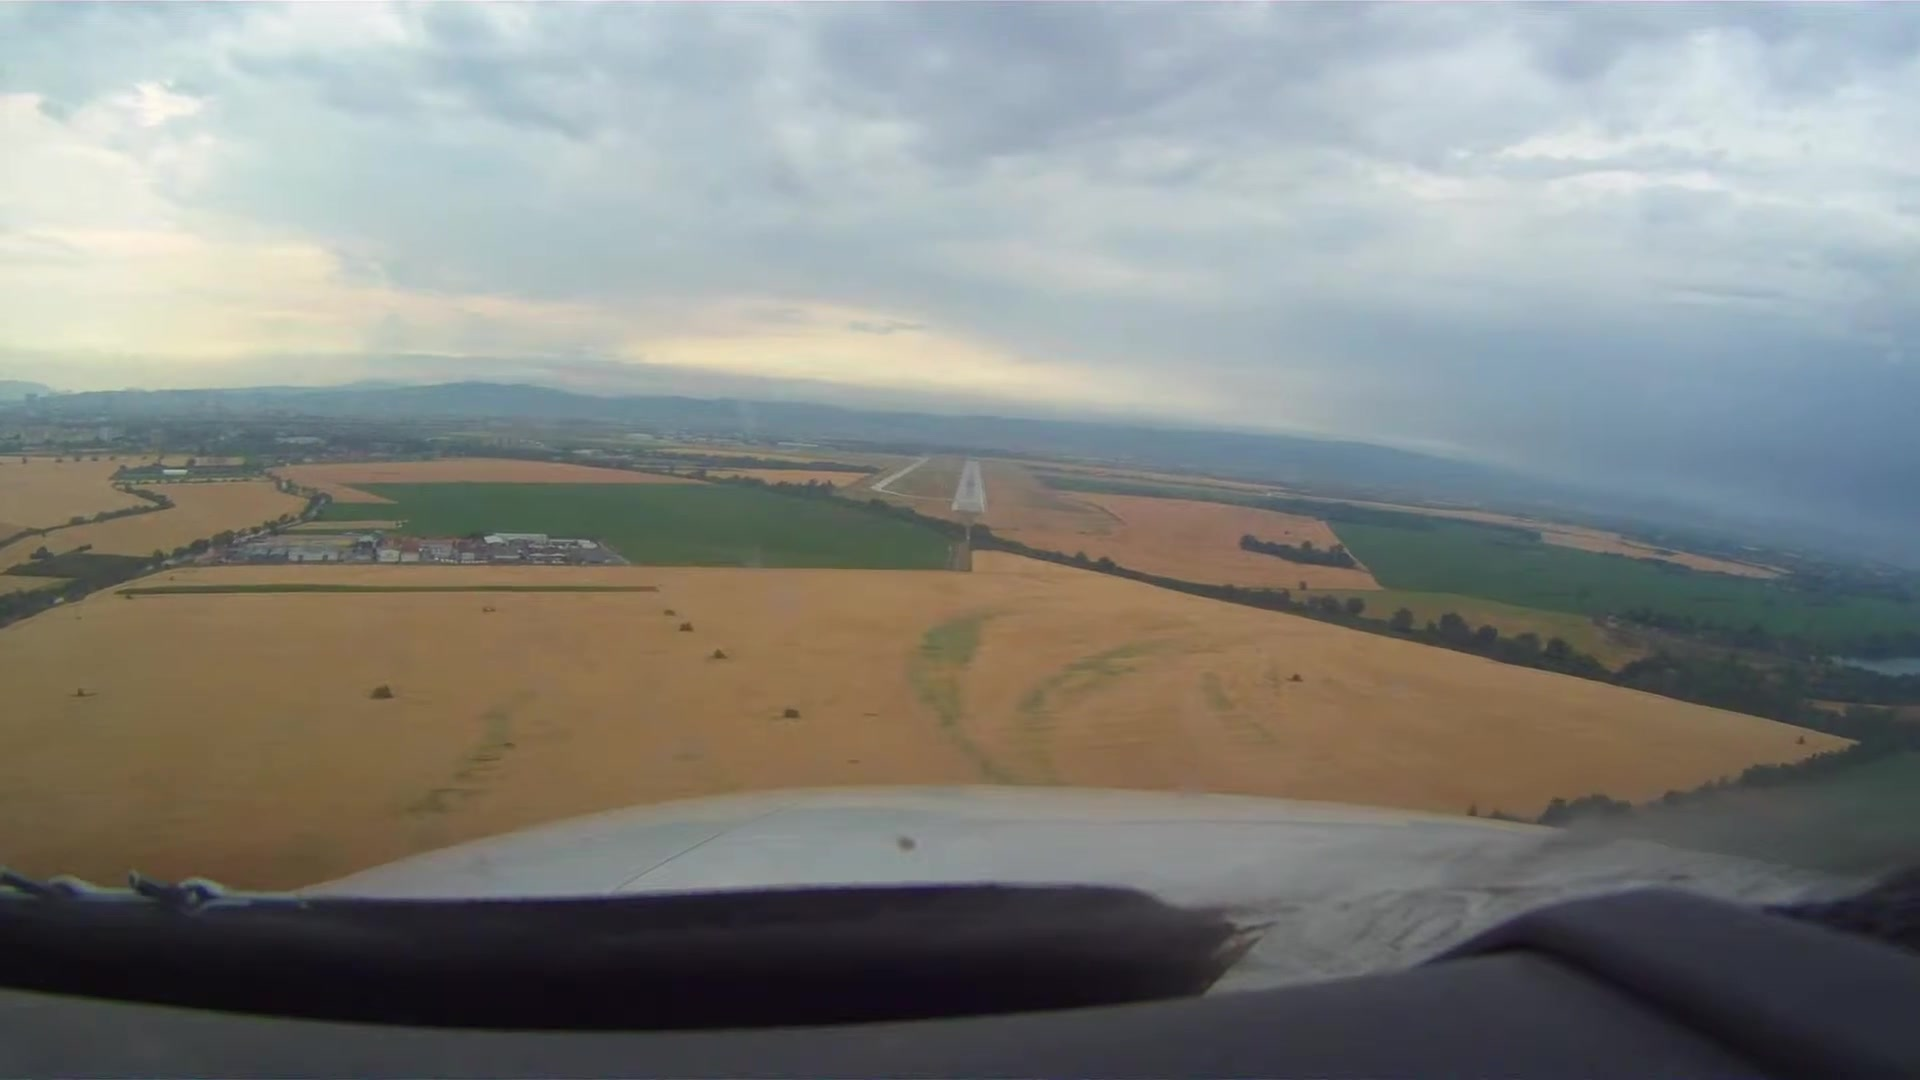runway: (949, 458, 986, 517)
